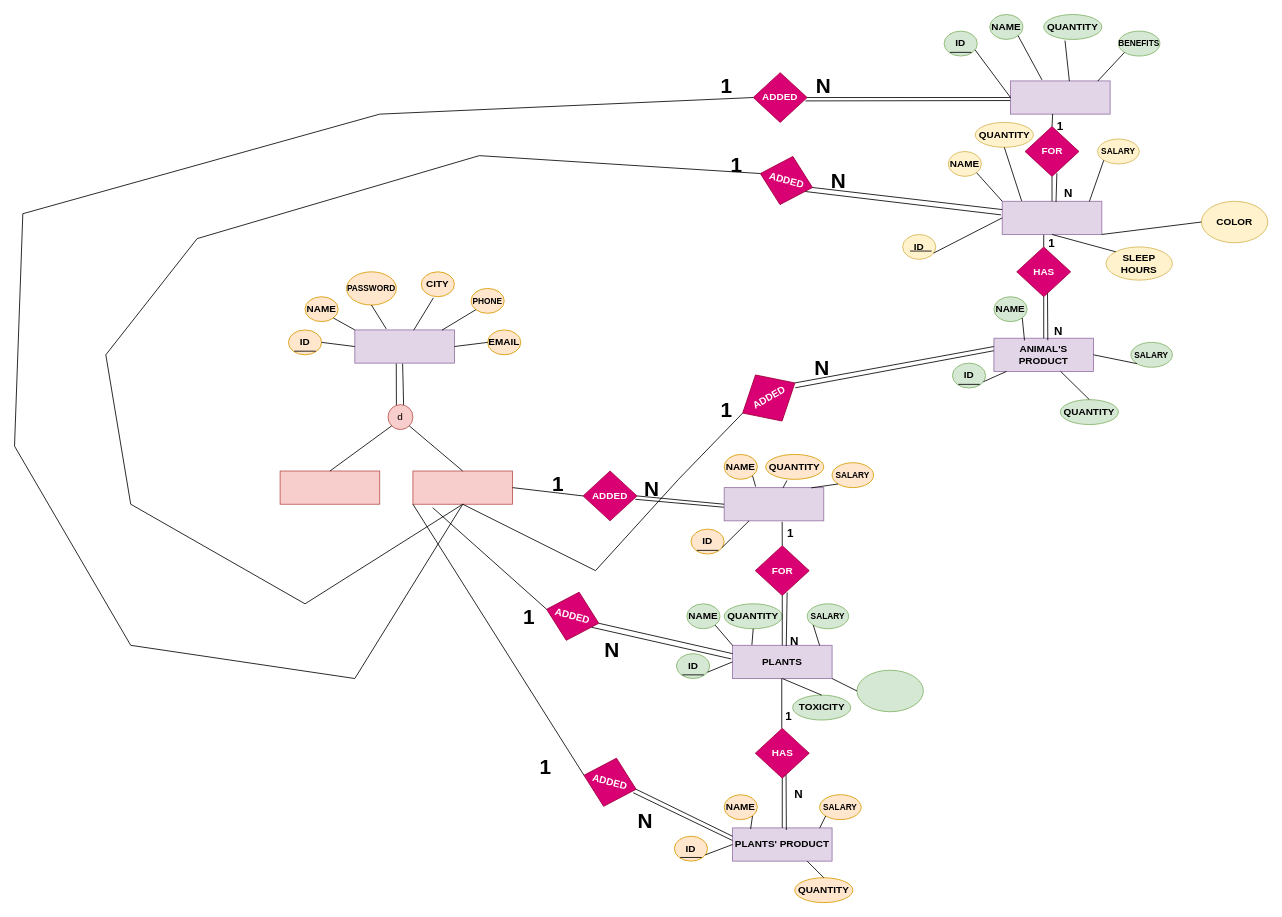
Some shapes in this 1282 by 917 pixel diagram are drawn without their labels. The shapes that lost their labels are listed below. From the top down, each one's centre as x and y in pixels, then its label:
[1060,97]: STORE HOUSE
[1051,217]: ANIMALS
[404,346]: PERSON
[329,487]: MYUSER
[462,487]: EMPLOYEE
[773,504]: FERTILIZER
[889,690]: PLANT DEGREE
